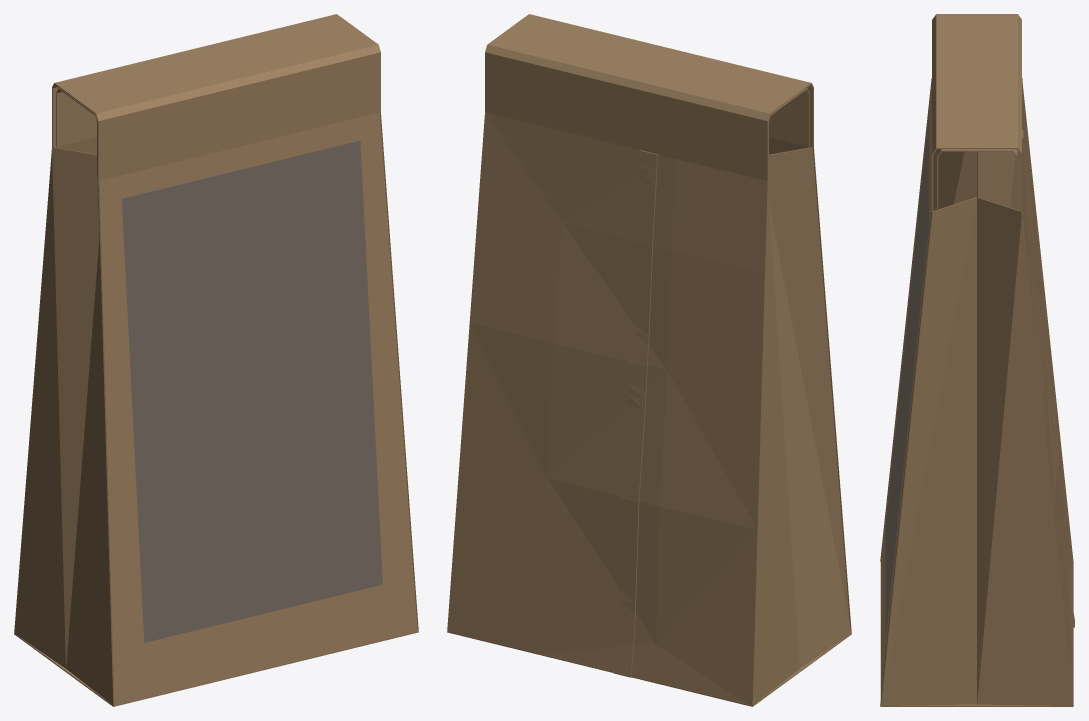
File: pantry-oat-sack-760b4713a7e7.glb
3 renders of one model, left to right at view 1: azimuth 30°, elevation 25°; view 2: azimuth 150°, elevation 25°; view 3: azimuth 270°, elevation 25°, orthographic. The views are drawn at different scales.
Parts seen in each view (by area): view 1: paper-kraft, cover-print; view 2: paper-kraft; view 3: paper-kraft, cover-print.
Boxes of the visible parts, left/top/right/bottom form: paper-kraft: left=14, top=14, right=418, bottom=706; cover-print: left=121, top=140, right=382, bottom=642; paper-kraft: left=447, top=14, right=851, bottom=706; paper-kraft: left=880, top=14, right=1074, bottom=706; cover-print: left=885, top=111, right=929, bottom=636.
Size of the model in its own units: 0.16 by 0.2851 by 0.0909.
